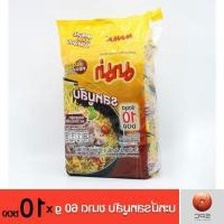snack: (49, 0, 171, 185)
